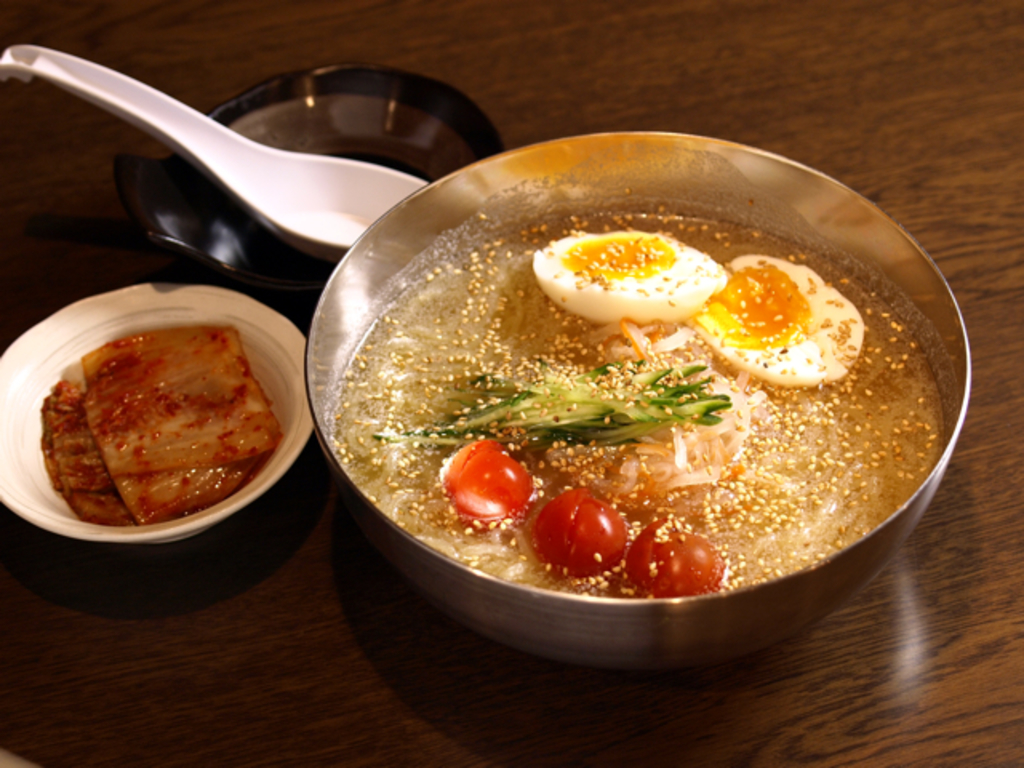Tomato: (531, 478, 628, 577), (625, 516, 723, 591), (449, 444, 534, 507)
